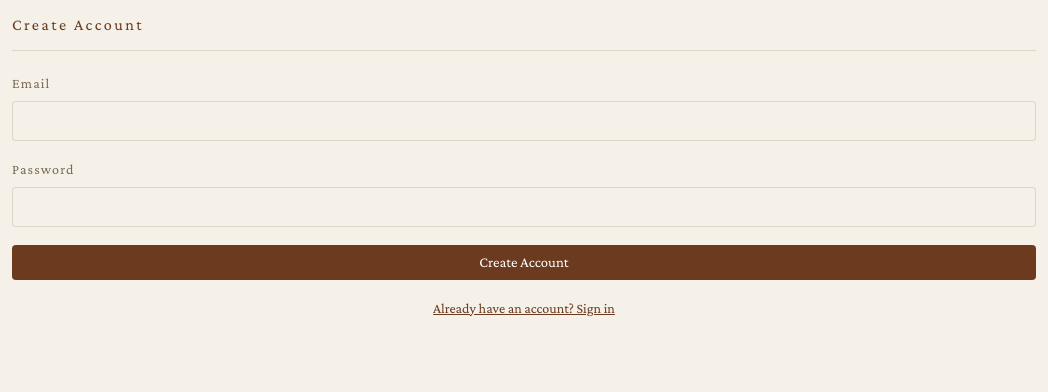
Scenario: RegisterForm › shows generic error when register rejects with non-Error
Type "new@example.com" into the field. click: (524, 121)
box: [12,101,1036,141]
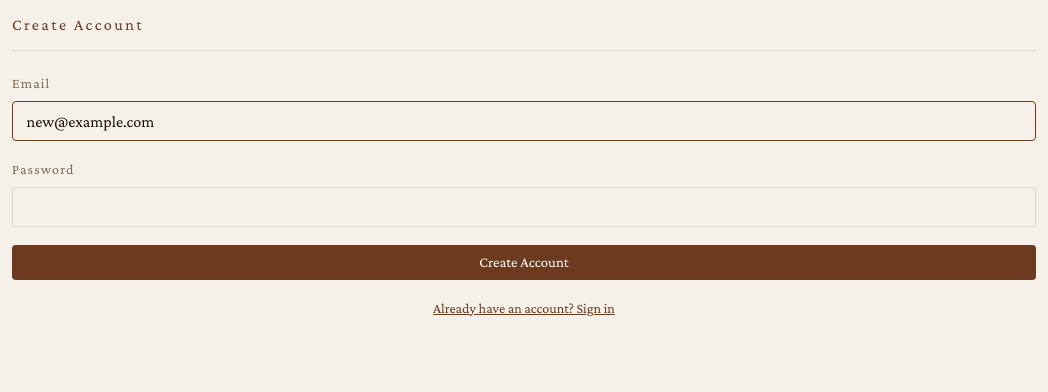
Type "password123" into the password field. click: (524, 207)
box: [12,187,1036,228]
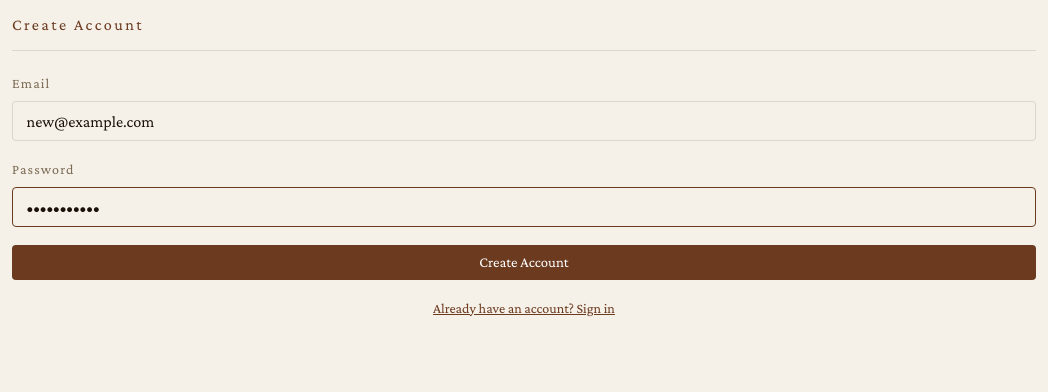
Click the button "Create Account". click: click(524, 263)
box: [12,246,1036,280]
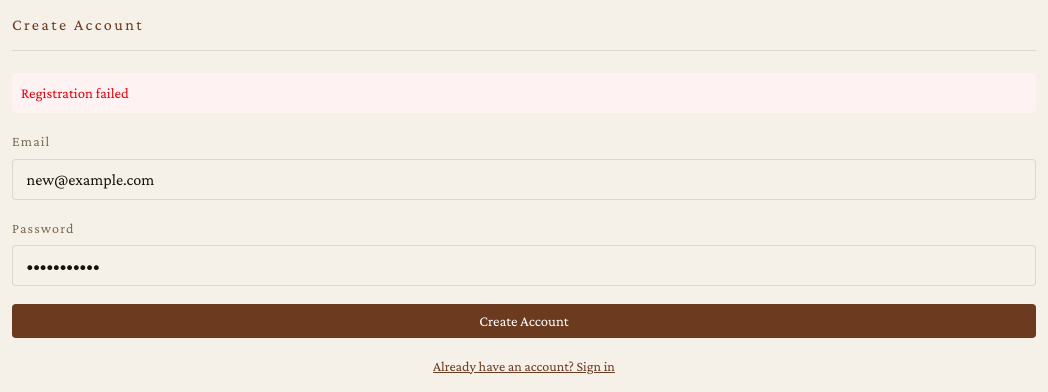
Result: the text "Registration failed" is shown at [12,73,1036,113]
